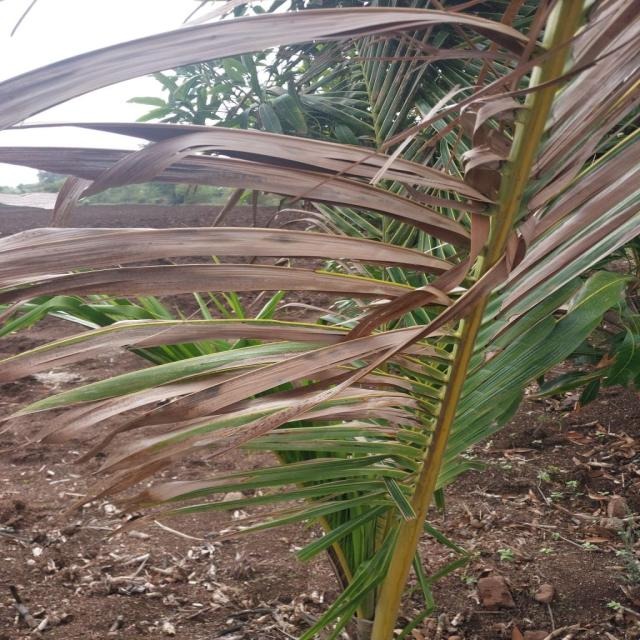gray leaf spot: (0, 1, 640, 493), (277, 388, 419, 429)
